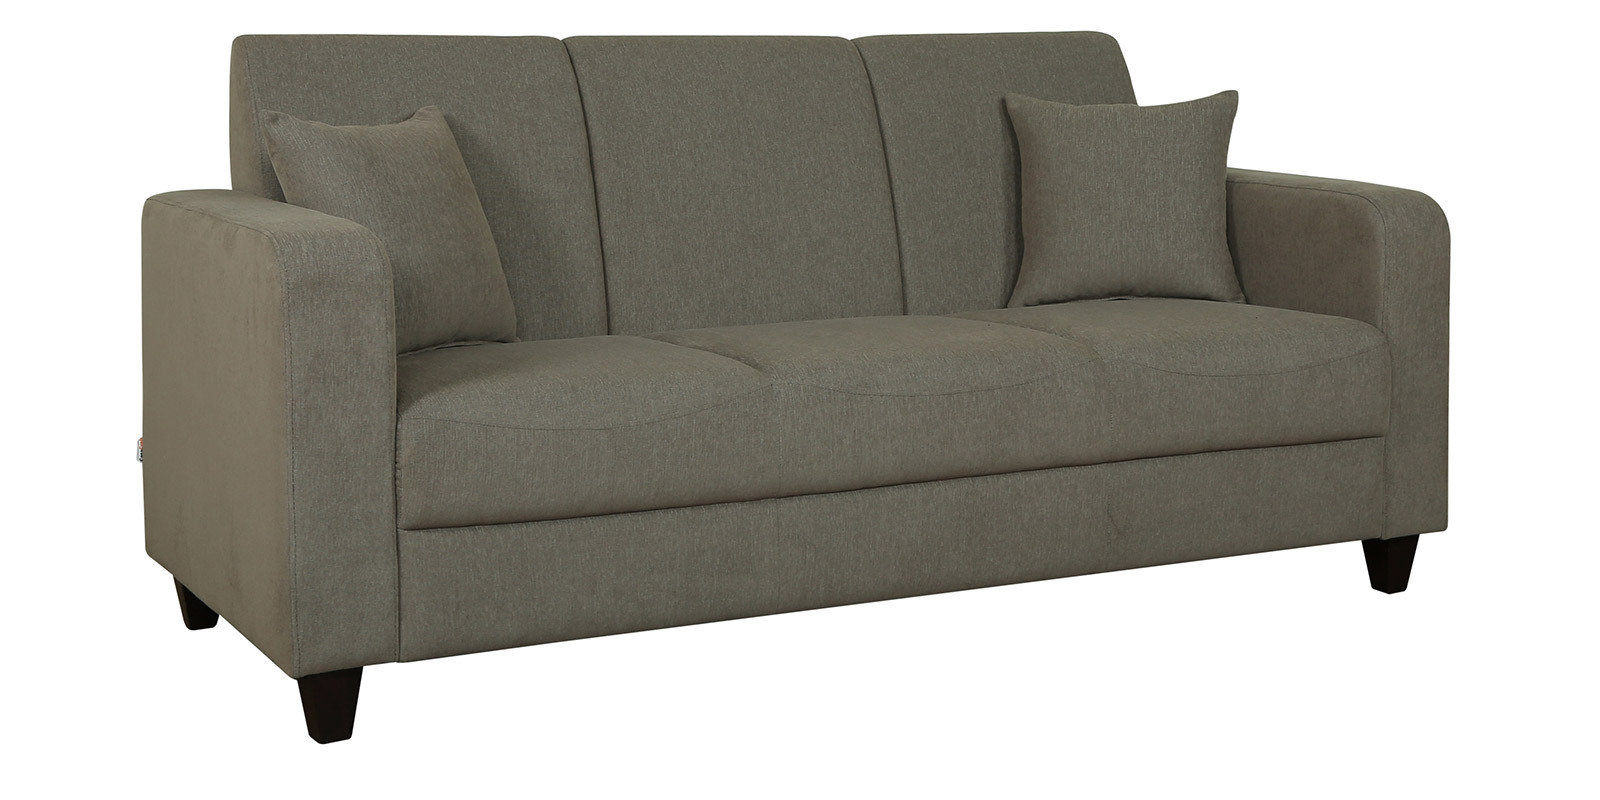Alba Three Seater Sofa in Sandy Brown Colour by CasaCraft: (113, 23, 1461, 738)
